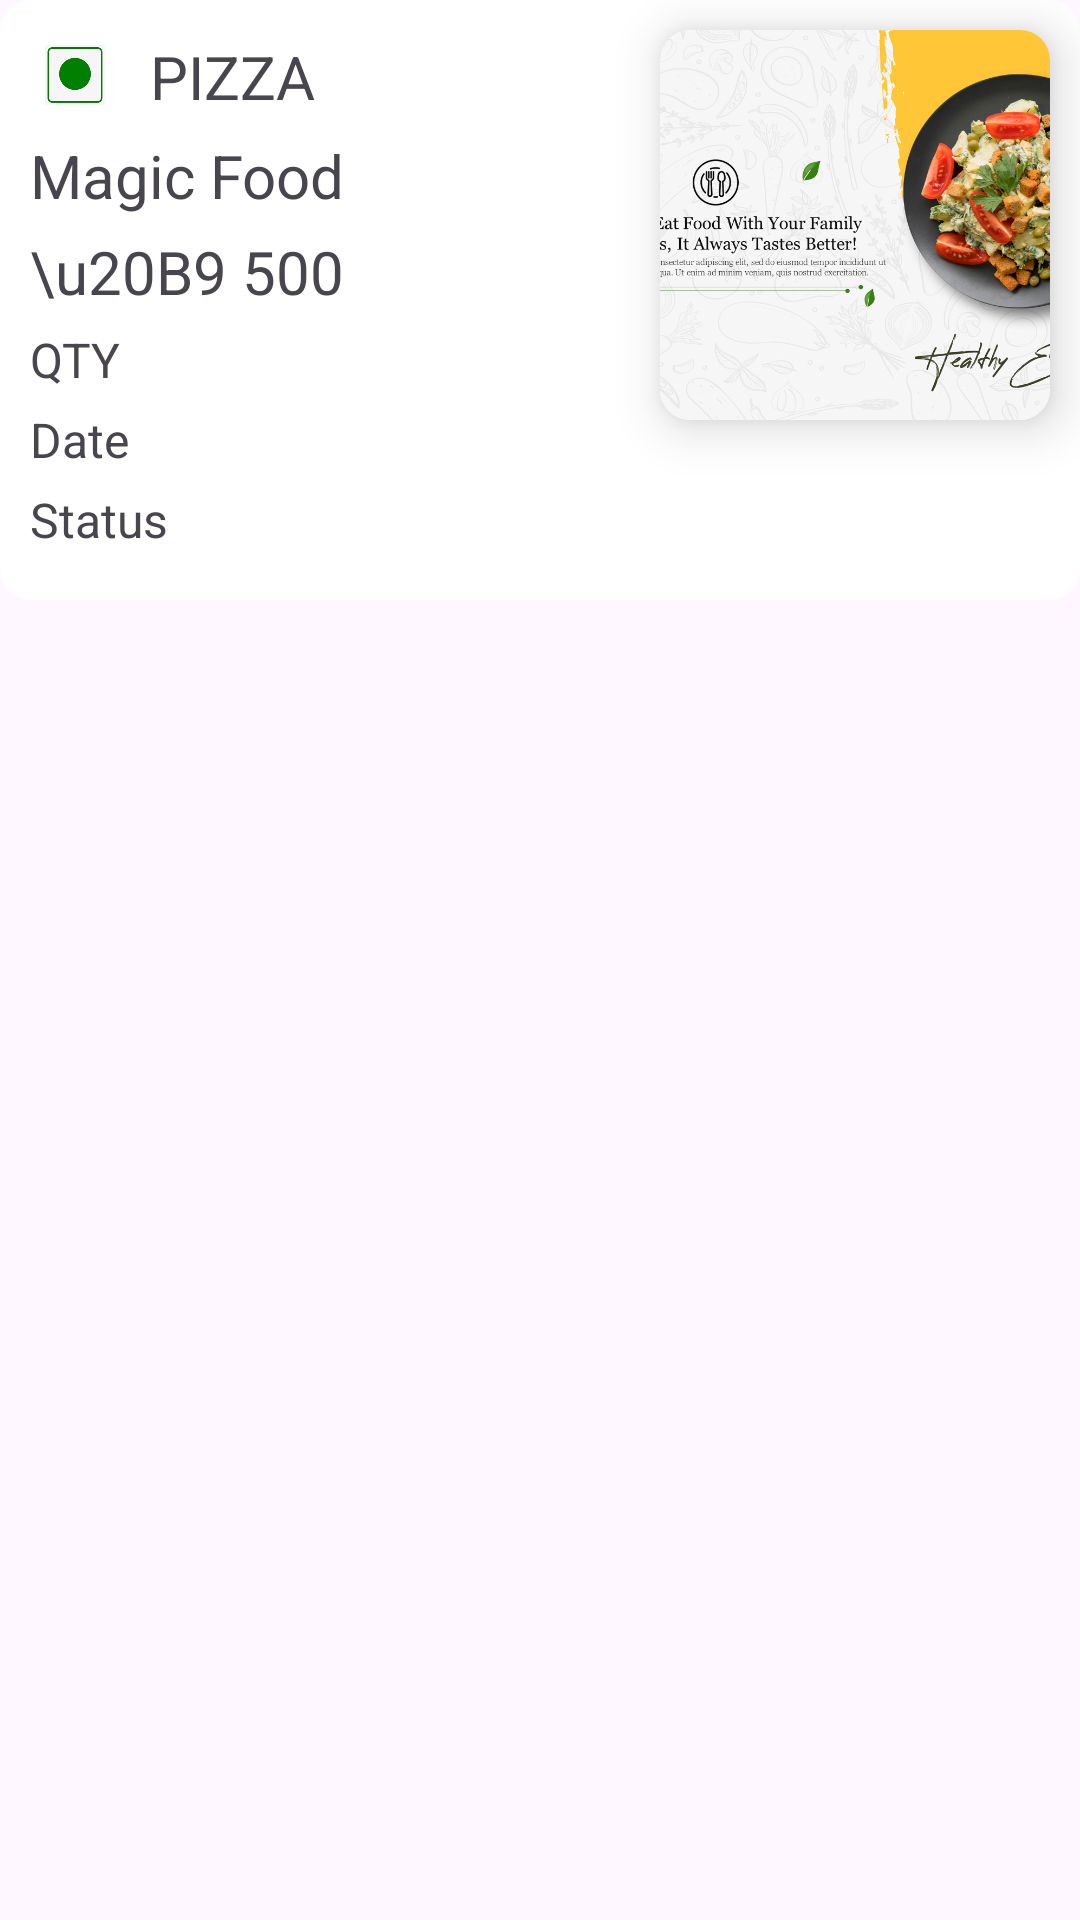

Point at icon controls on the screen. Image size 1080×1920, points as point (x, y).
veg: point (75, 75)
